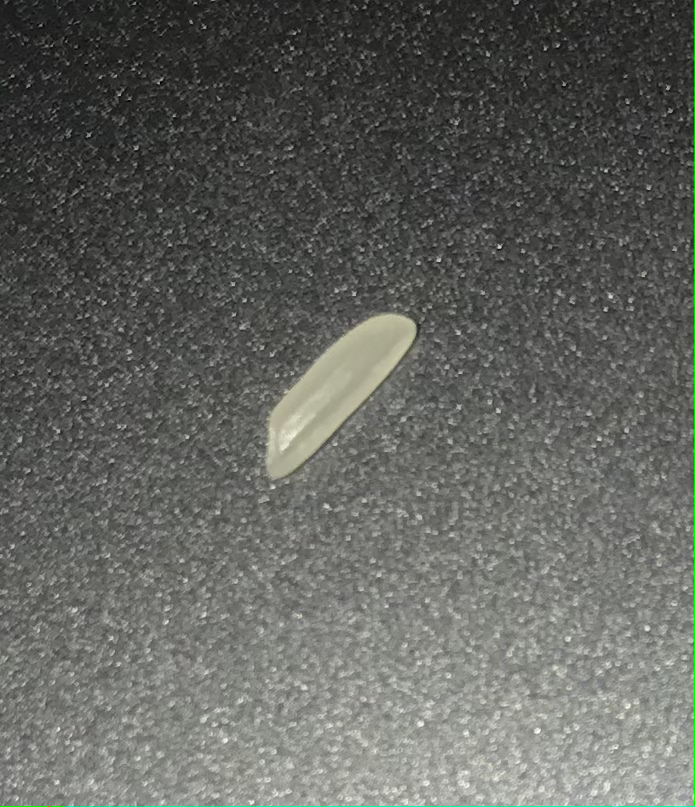Gao Long Lai: (246, 302, 423, 488)
